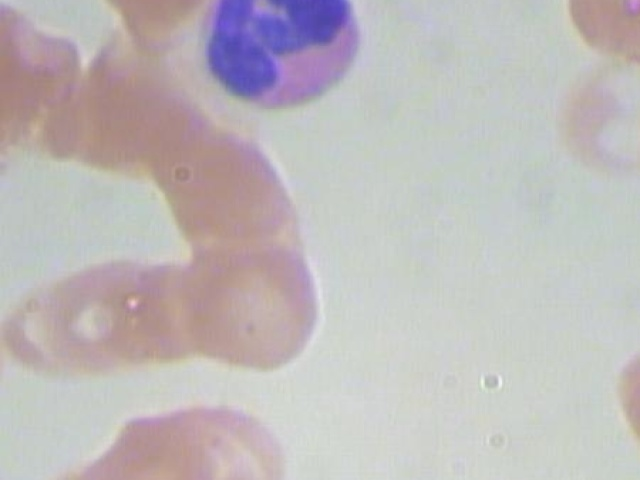RBC: (171, 243, 333, 375), (35, 251, 154, 379), (0, 0, 87, 174), (163, 142, 298, 242), (545, 50, 640, 182), (173, 392, 302, 480), (606, 335, 640, 480), (0, 281, 13, 421)
WBC: (185, 0, 367, 125)
